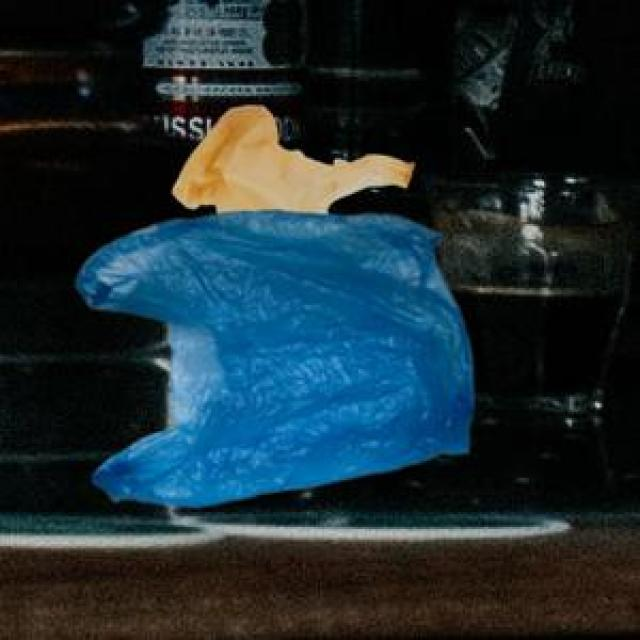plastic: (47, 85, 515, 582)
